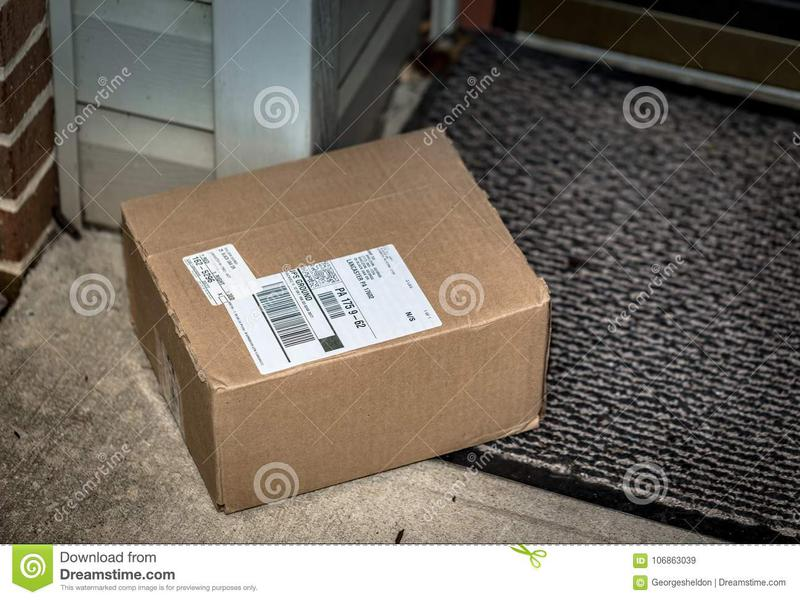package: (111, 112, 566, 526)
